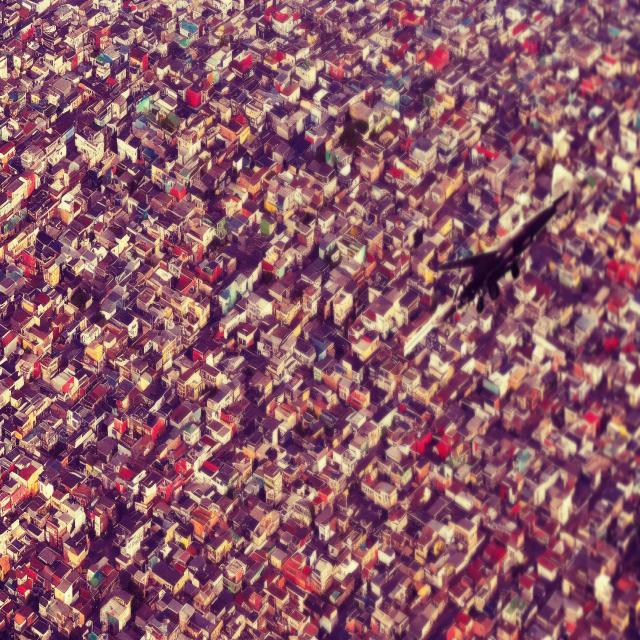airplane: (436, 186, 569, 318)
